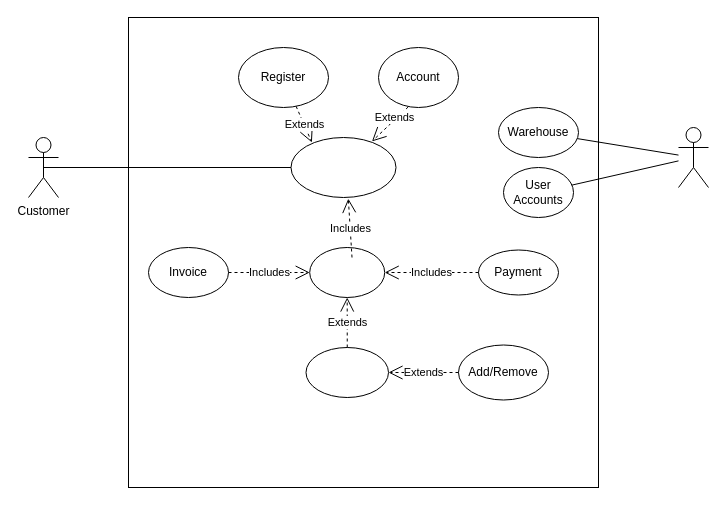
The diagram is 727 pixels wide and 505 high, and some of its shapes have lost their labels. The shapes that lost their labels are listed below. From the top down, each one's centre as x and y in pixels, then its label:
(x=343, y=167): Login
(x=693, y=157): Admin
(x=347, y=272): Checkout
(x=346, y=372): Search
